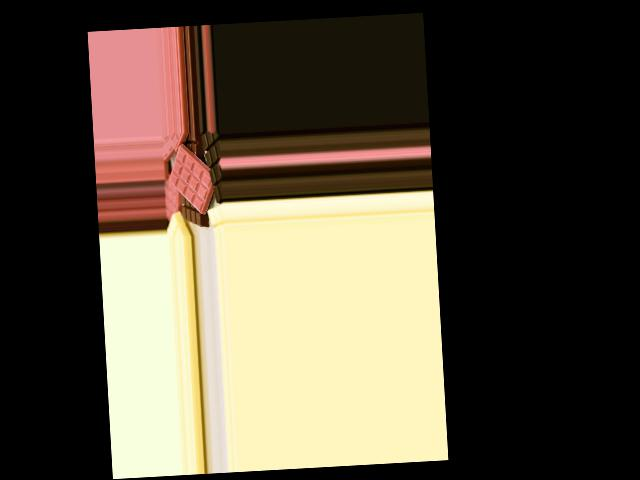chocolate: (165, 141, 224, 214)
